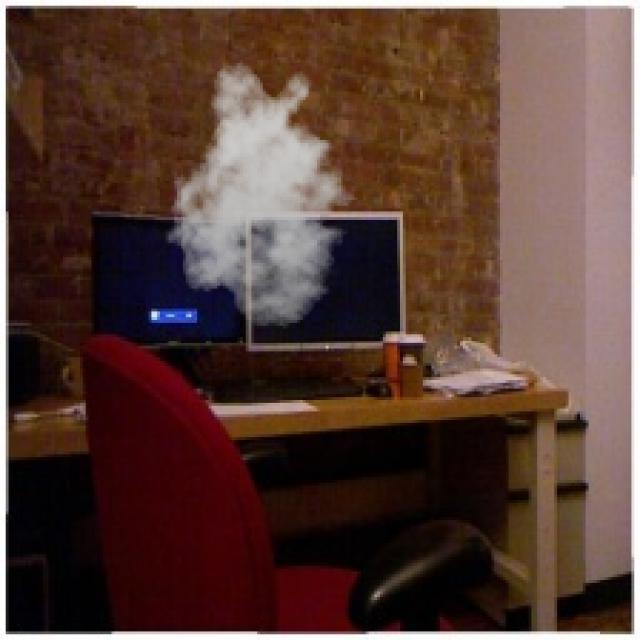Smoke: (160, 60, 366, 329)
